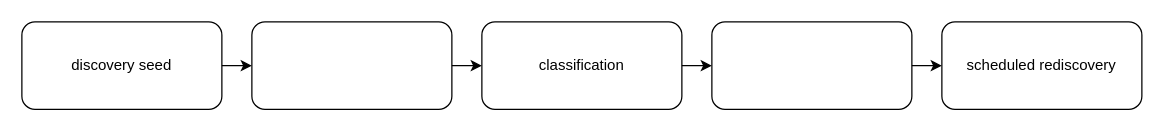
The diagram is 1164 pixels wide and 131 high, and some of its shapes have lost their labels. The shapes that lost their labels are listed below. From the top down, each one's box as (x1, y1, x2, y2) in pixels, then its label:
(251, 21, 452, 109): credential/protocol probes
(711, 21, 912, 109): CMDB population
